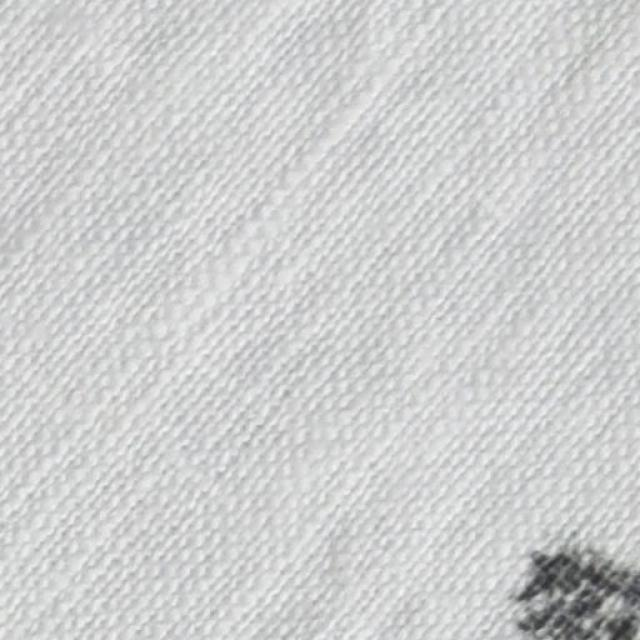Stain: (506, 544, 639, 639)
